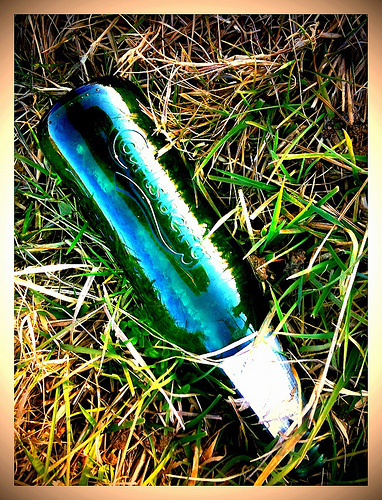litter: (39, 73, 324, 477)
